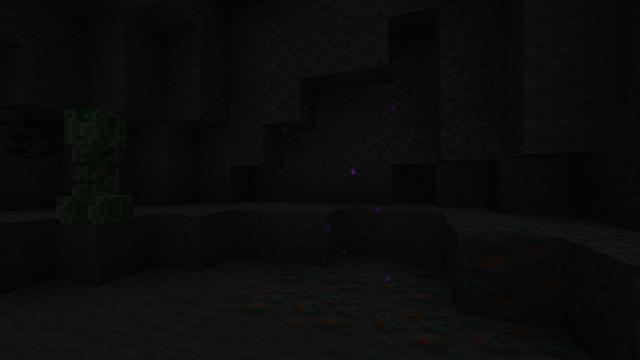creepers: (59, 100, 130, 224)
